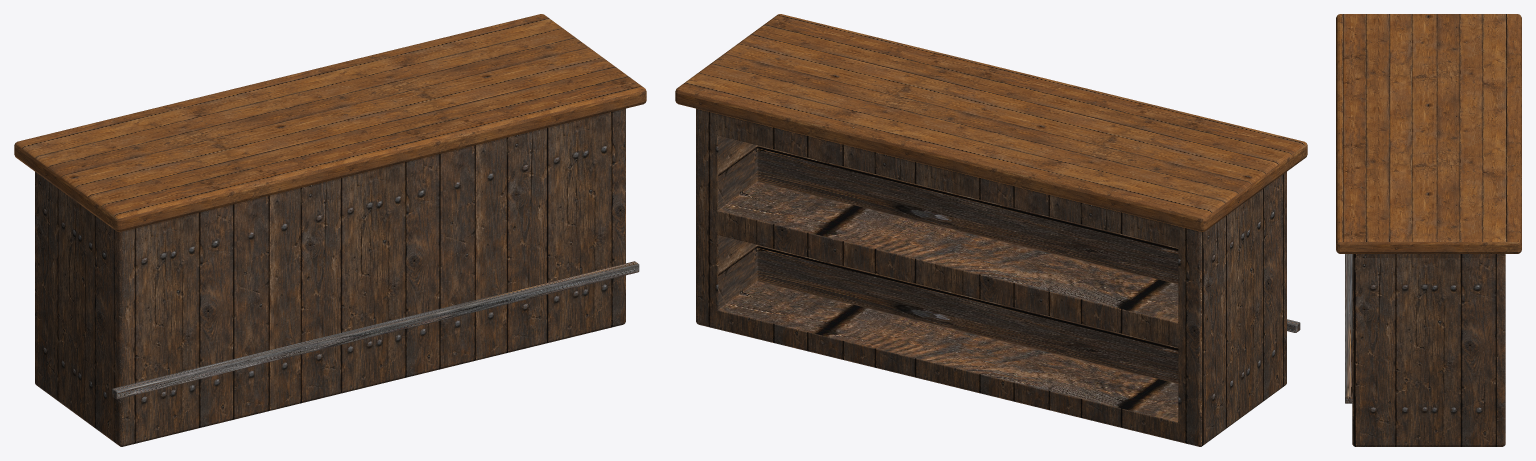
The model's file is counter-v01.glb.
The picture shows the model from 3 angles, left to right: view 1: azimuth 30°, elevation 25°; view 2: azimuth 150°, elevation 25°; view 3: azimuth 270°, elevation 25°; orthographic projection. The views are drawn at different scales.
Visible parts, largest first — view 1: counter; view 2: counter; view 3: counter.
Part boxes in pixels (x1,y1,x2,y2): counter: (14,14,646,446); counter: (675,14,1307,446); counter: (1336,14,1521,446).
Size of the model in its own units: 3.35 by 1.45 by 1.15.
3 materials, 3 textured.
